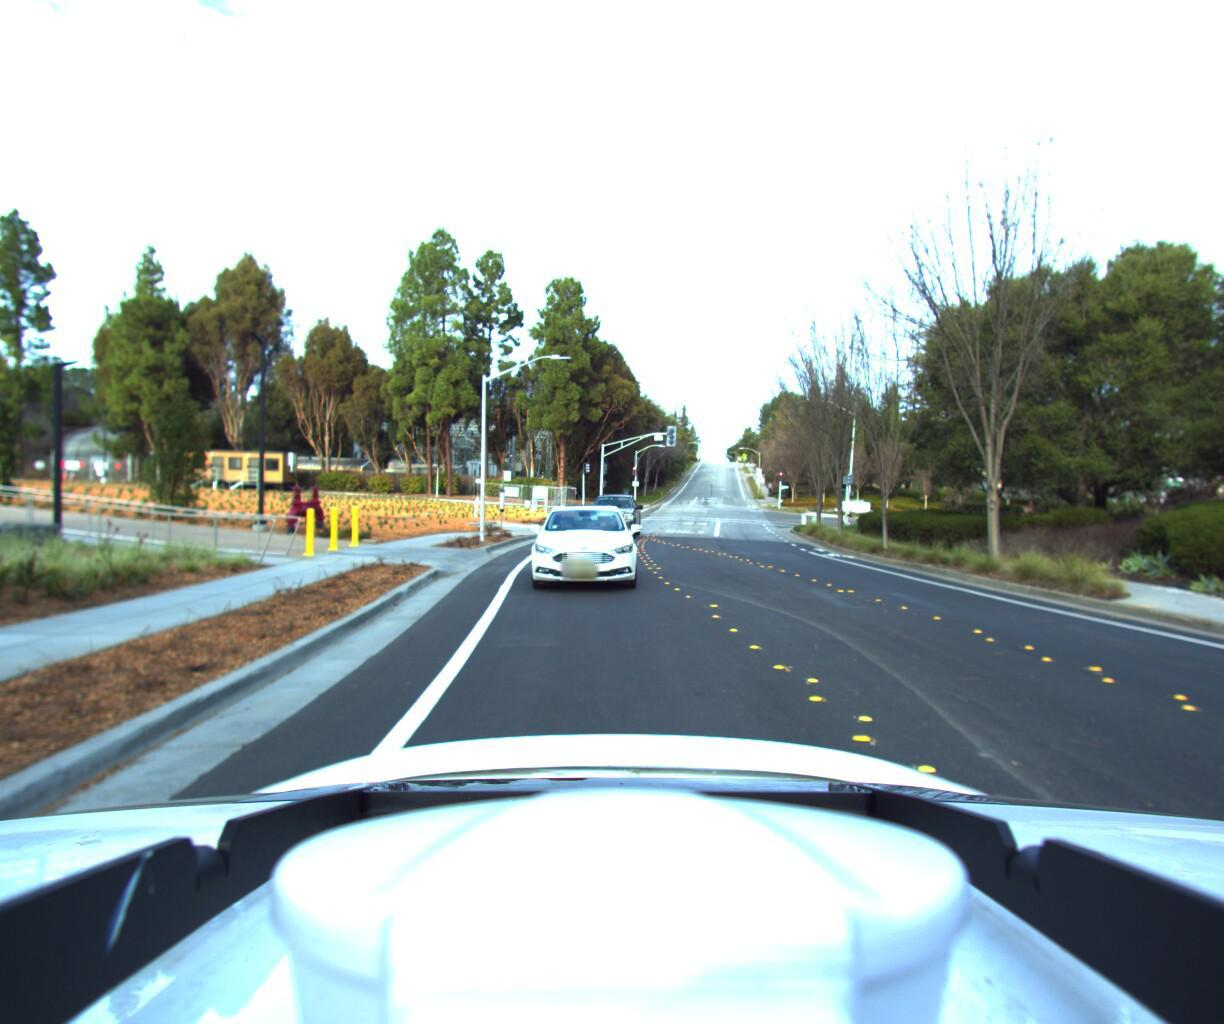car: (518, 497, 637, 600), (582, 488, 646, 540)
